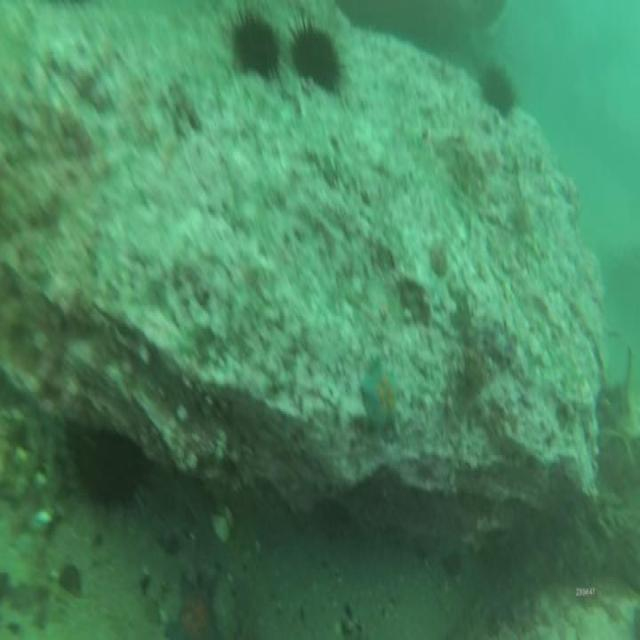echinus: (81, 436, 144, 507), (293, 27, 339, 88), (233, 17, 276, 76), (481, 66, 515, 109)
starfish: (166, 573, 220, 640), (360, 355, 399, 430)
